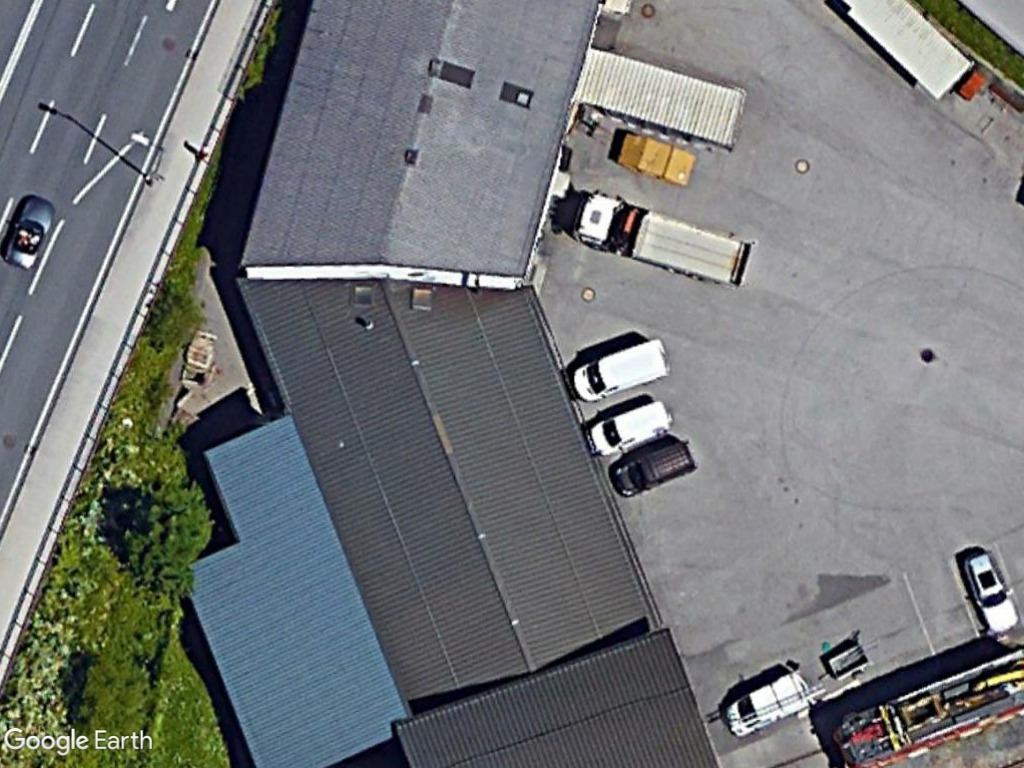truck: (575, 185, 756, 293)
van: (568, 335, 676, 404), (721, 667, 815, 743), (956, 547, 1021, 640), (588, 398, 677, 461)
